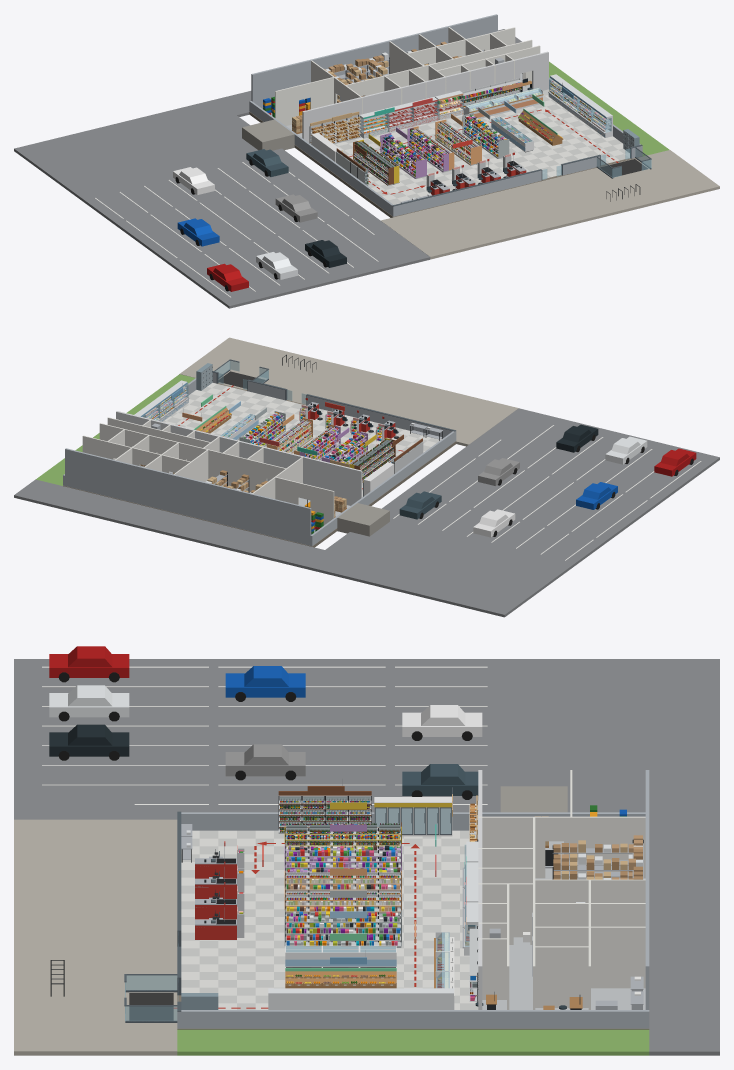
File: aero_express.dae
The picture shows the model from 3 angles, top to bottom: view 1: azimuth 30°, elevation 25°; view 2: azimuth 150°, elevation 25°; view 3: azimuth 270°, elevation 25°; orthographic projection. The views are drawn at different scales.
Parts seen in each view (by area): view 1: Благоустрій: тротуар, стоянка, велопарковка, Перегородки підсобного блоку, Підлога торговельної зали, Зовнішні стіни (сендвіч-панелі), Фасад (занижений), Комора сухих товарів: стелажі, 1.2 Острівний стелаж «Колумб» — Кондитерські вироби / Кондит, 1.5 Острівний стелаж «Колумб» — Супутні та непродовольчі тов, 1.3 Острівний стелаж «Колумб» — Кондитерські вироби / Бакалі, 1.1 Острівний стелаж «Колумб» — Алкогольні напої / Пиво, сок, 1.4 Острівний стелаж «Колумб» — Бакалія, кава, чай / Бакалія, Підвісні покажчики відділів (+7 smaller); view 2: Благоустрій: тротуар, стоянка, велопарковка, Перегородки підсобного блоку, Зовнішні стіни (сендвіч-панелі), Підлога торговельної зали, Фасад (занижений), Підвісні покажчики відділів, 1.1 Острівний стелаж «Колумб» — Алкогольні напої / Пиво, сок, 1.5 Острівний стелаж «Колумб» — Супутні та непродовольчі тов, 1.4 Острівний стелаж «Колумб» — Бакалія, кава, чай / Бакалія, 1.2 Острівний стелаж «Колумб» — Кондитерські вироби / Кондит, 1.3 Острівний стелаж «Колумб» — Кондитерські вироби / Бакалі, Тамбур (+1 smaller); view 3: Благоустрій: тротуар, стоянка, велопарковка, Перегородки підсобного блоку, Підлога торговельної зали, Зовнішні стіни (сендвіч-панелі), 1.5 Острівний стелаж «Колумб» — Супутні та непродовольчі тов, Комора сухих товарів: стелажі, Підлога підсобних приміщень, 1.2 Острівний стелаж «Колумб» — Кондитерські вироби / Кондит, 1.1 Острівний стелаж «Колумб» — Алкогольні напої / Пиво, сок, Підвісні покажчики відділів, Тамбур, 1.3 Острівний стелаж «Колумб» — Кондитерські вироби / Бакалі (+22 smaller).
Boxes of the visible parts, <box> form: Благоустрій: тротуар, стоянка, велопарковка: <box>14,29,719,308</box>; Перегородки підсобного блоку: <box>275,27,548,142</box>; Підлога торговельної зали: <box>249,89,641,217</box>; Зовнішні стіни (сендвіч-панелі): <box>249,14,640,215</box>; Фасад (занижений): <box>392,144,642,216</box>; Комора сухих товарів: стелажі: <box>324,52,389,102</box>; 1.2 Острівний стелаж «Колумб» — Кондитерські вироби / Кондит: <box>380,133,426,178</box>; 1.5 Острівний стелаж «Колумб» — Супутні та непродовольчі тов: <box>462,113,509,158</box>; 1.3 Острівний стелаж «Колумб» — Кондитерські вироби / Бакалі: <box>407,126,454,172</box>; 1.1 Острівний стелаж «Колумб» — Алкогольні напої / Пиво, сок: <box>353,139,399,185</box>; 1.4 Острівний стелаж «Колумб» — Бакалія, кава, чай / Бакалія: <box>435,119,481,165</box>; Підвісні покажчики відділів: <box>332,82,573,156</box>; Благоустрій: тротуар, стоянка, велопарковка: <box>14,337,719,617</box>; Перегородки підсобного блоку: <box>82,411,362,525</box>; Зовнішні стіни (сендвіч-панелі): <box>63,378,454,546</box>; Підлога торговельної зали: <box>63,382,456,547</box>; Фасад (занижений): <box>212,371,456,441</box>; Підвісні покажчики відділів: <box>171,383,403,467</box>; 1.1 Острівний стелаж «Колумб» — Алкогольні напої / Пиво, сок: <box>349,438,395,482</box>; 1.5 Острівний стелаж «Колумб» — Супутні та непродовольчі тов: <box>239,411,285,446</box>; 1.4 Острівний стелаж «Колумб» — Бакалія, кава, чай / Бакалія: <box>266,417,312,453</box>; 1.2 Острівний стелаж «Колумб» — Кондитерські вироби / Кондит: <box>321,431,368,463</box>; 1.3 Острівний стелаж «Колумб» — Кондитерські вироби / Бакалі: <box>294,424,340,460</box>; Тамбур: <box>214,359,268,388</box>; Благоустрій: тротуар, стоянка, велопарковка: <box>14,646,719,1055</box>; Перегородки підсобного блоку: <box>478,770,645,1009</box>; Підлога торговельної зали: <box>177,830,649,1029</box>; Зовнішні стіни (сендвіч-панелі): <box>181,770,649,1028</box>; 1.5 Острівний стелаж «Колумб» — Супутні та непродовольчі тов: <box>284,910,401,947</box>; Комора сухих товарів: стелажі: <box>552,835,643,879</box>; Підлога підсобних приміщень: <box>482,841,645,1009</box>; 1.2 Острівний стелаж «Колумб» — Кондитерські вироби / Кондит: <box>284,844,401,871</box>; 1.1 Острівний стелаж «Колумб» — Алкогольні напої / Пиво, сок: <box>284,822,401,849</box>; Підвісні покажчики відділів: <box>262,779,452,964</box>; Тамбур: <box>124,974,177,1022</box>; 1.3 Острівний стелаж «Колумб» — Кондитерські вироби / Бакалі: <box>284,866,401,893</box>.
Size of the model in its own units: 50 by 38 by 3.91.
